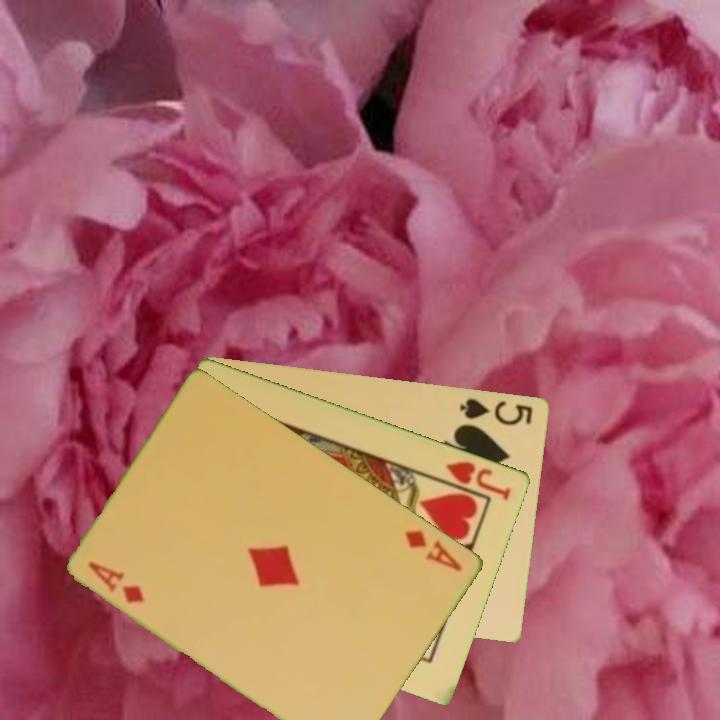5s: (456, 394, 536, 428)
Ad: (402, 526, 466, 575), (85, 557, 149, 606)
Jh: (432, 457, 514, 503)
